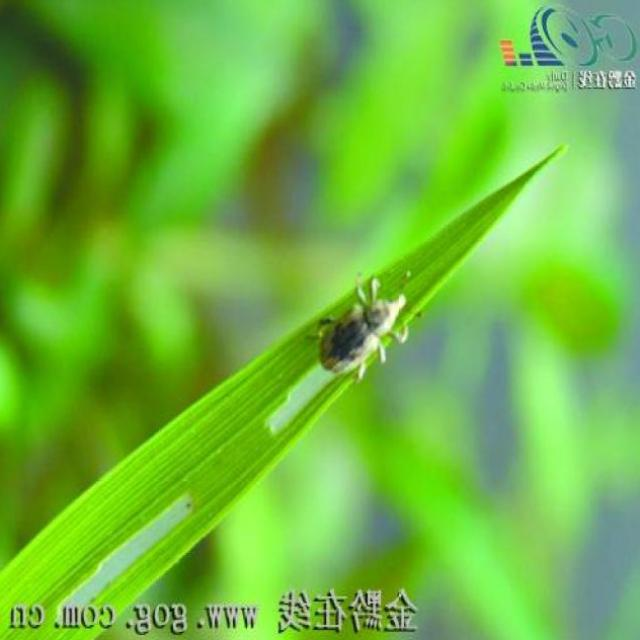ricebug: (321, 277, 408, 380)
